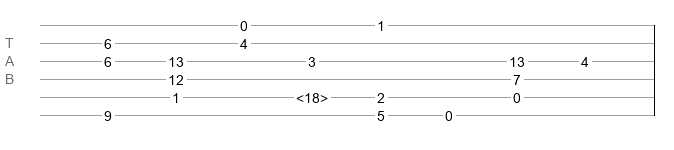0: (240, 18, 248, 28), (445, 108, 453, 118), (513, 90, 521, 100)
1: (172, 90, 180, 100), (377, 18, 385, 28)
12: (168, 72, 184, 82)
13: (168, 54, 184, 64), (509, 54, 525, 64)
2: (377, 90, 385, 100)
3: (308, 54, 316, 64)
4: (240, 36, 248, 46), (581, 54, 589, 64)
5: (377, 108, 385, 118)
6: (104, 54, 112, 64), (104, 36, 112, 46)
7: (513, 72, 521, 82)
9: (104, 108, 112, 118)
harmonic: (296, 90, 328, 100)
